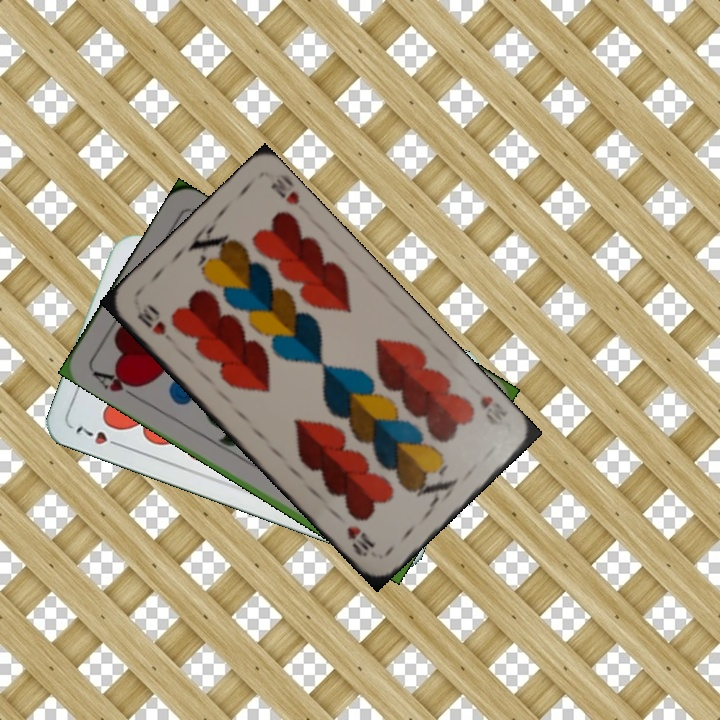H10: (133, 301, 168, 338), (476, 391, 510, 429)
H7: (71, 421, 126, 451)
HA: (88, 366, 143, 402)
